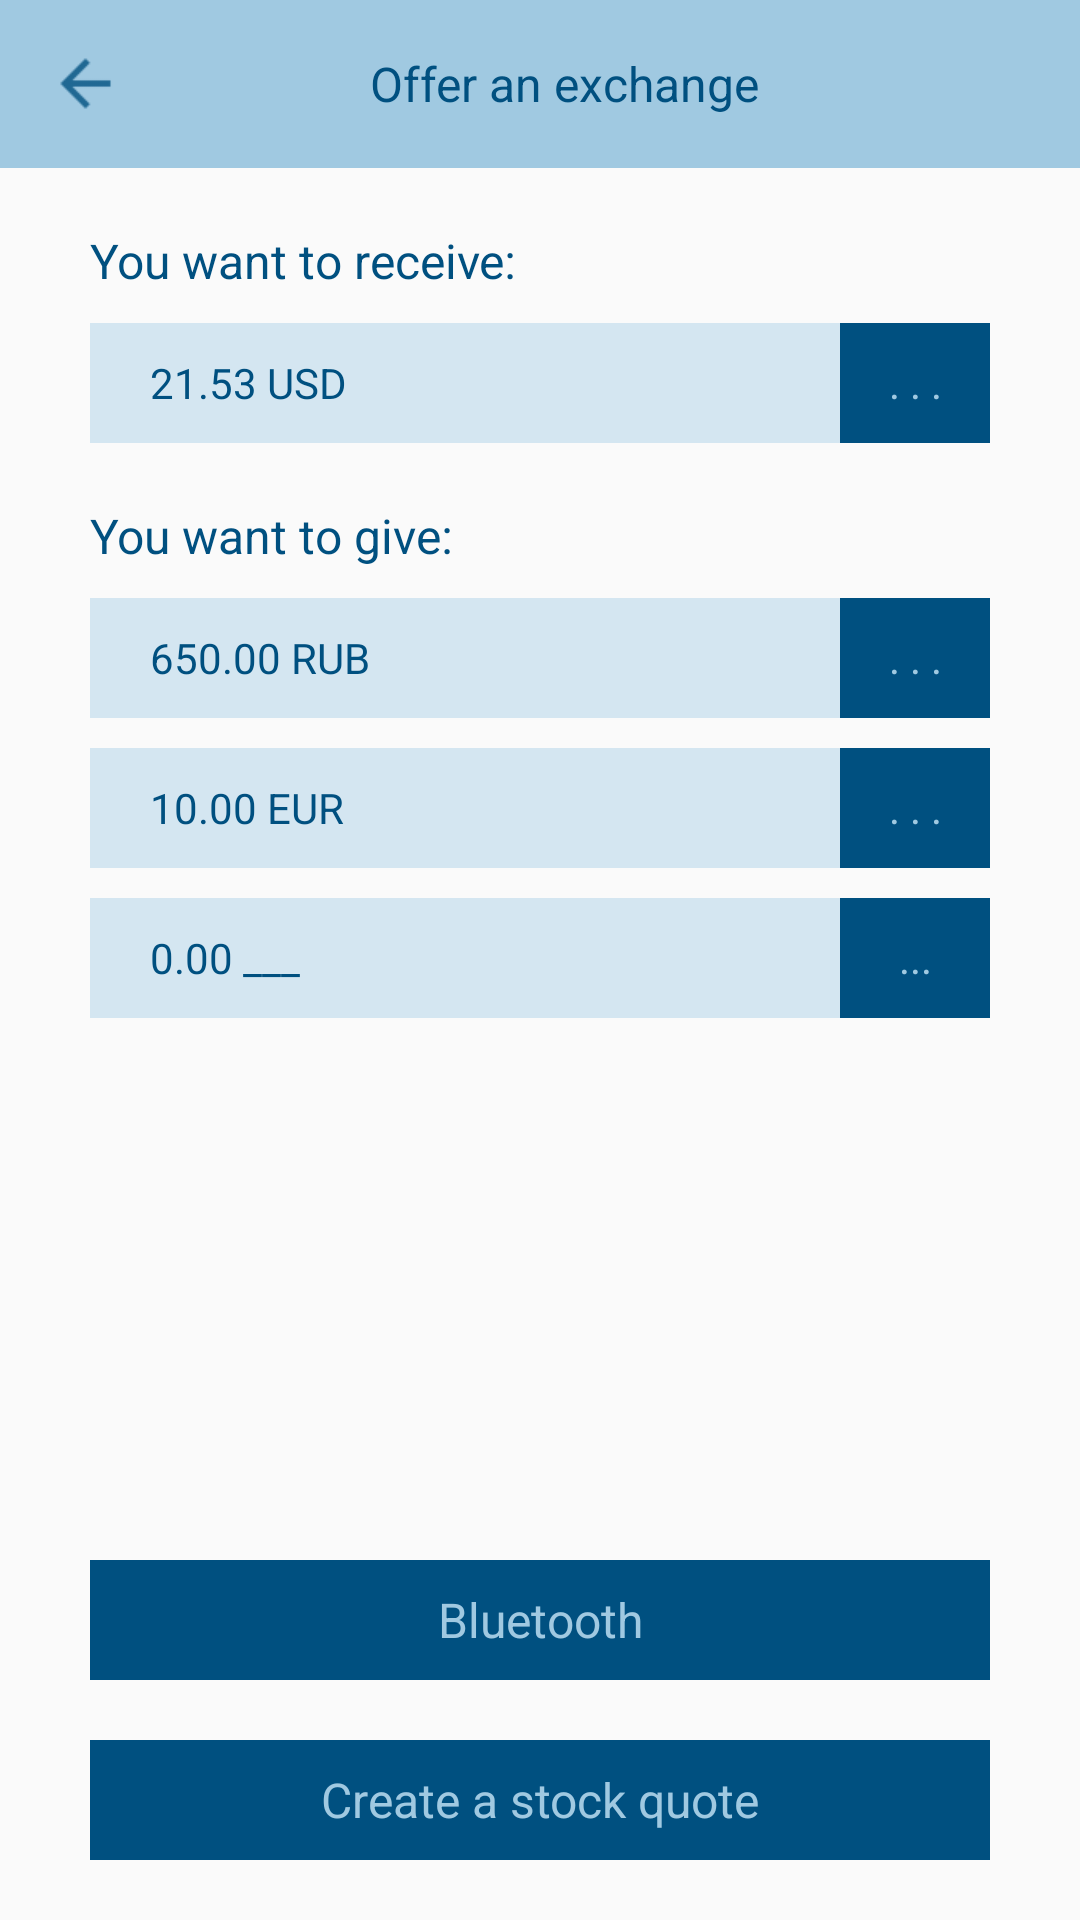

Locate icon controls on the screen. Image size 1080px×1920px, boxes as (x1, y1, x2, y2).
arrow back: (60, 58, 111, 109)
